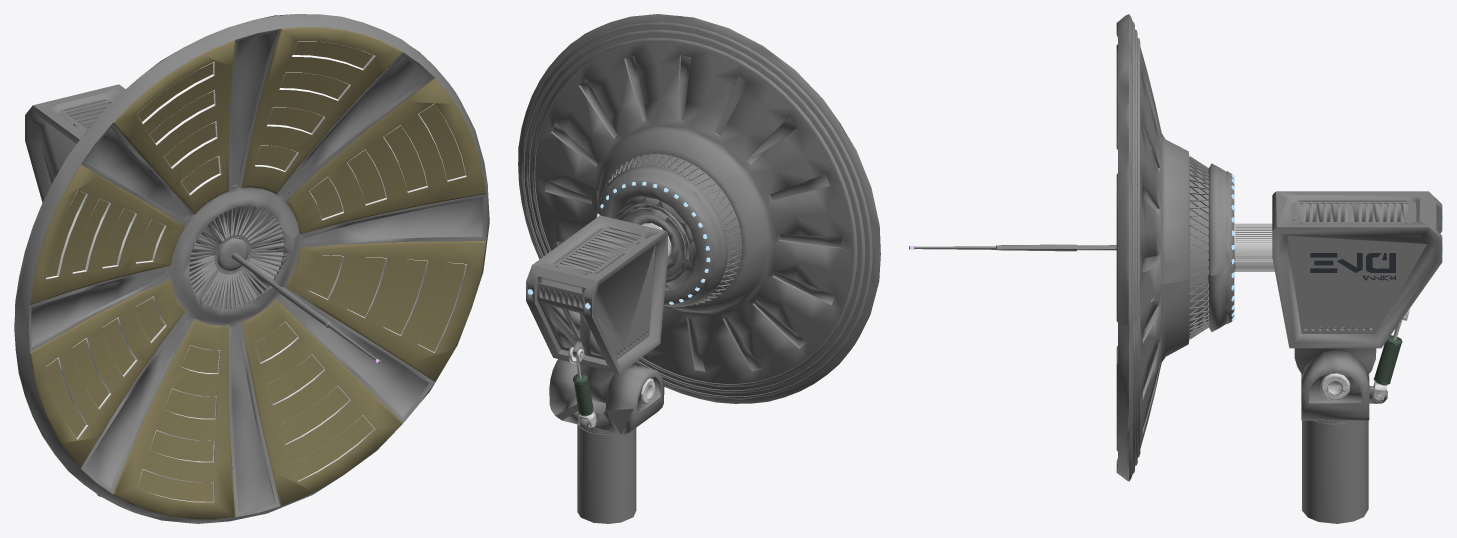
The model's file is antenna.glb.
3 renders of one model, left to right at view 1: azimuth 30°, elevation 25°; view 2: azimuth 150°, elevation 25°; view 3: azimuth 270°, elevation 25°, orthographic. The views are drawn at different scales.
Visible parts, largest first — view 1: antenna_mesh; view 2: antenna_mesh; view 3: antenna_mesh.
Part boxes in pixels (x1,y1,x2,y2): antenna_mesh: (14,14,489,523); antenna_mesh: (518,14,880,523); antenna_mesh: (909,14,1442,523).
Size of the model in its own units: 19.26 by 21.52 by 21.97.
